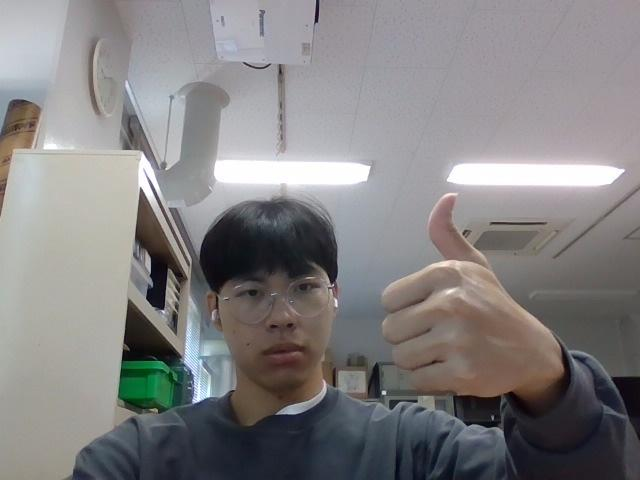thumbs-up: (374, 191, 561, 401)
